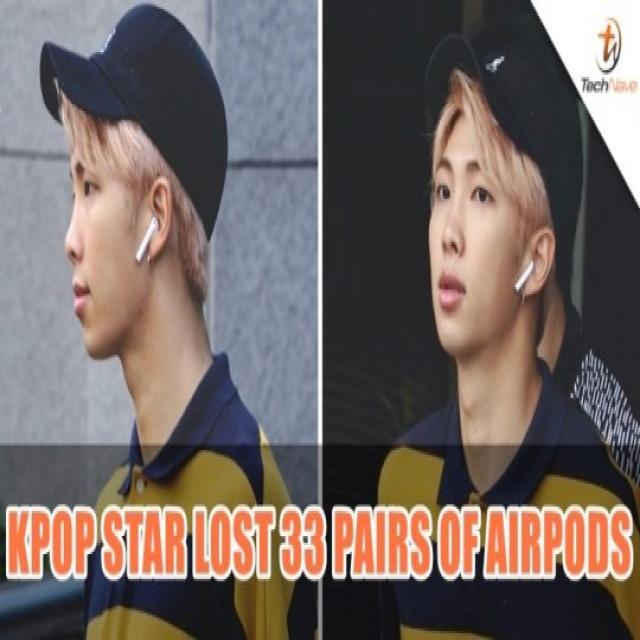earphone: (122, 206, 178, 278), (508, 236, 552, 306)
